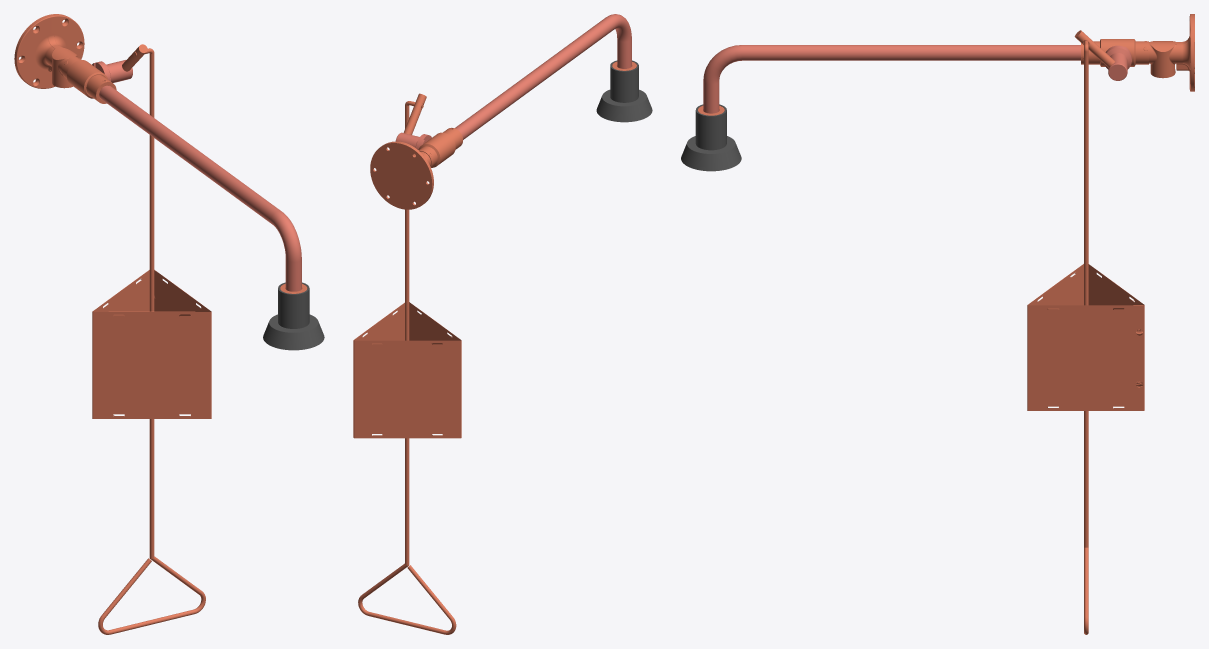
The picture shows the model from 3 angles, left to right: view 1: azimuth 30°, elevation 25°; view 2: azimuth 150°, elevation 25°; view 3: azimuth 270°, elevation 25°; orthographic projection. The views are drawn at different scales.
Parts seen in each view (by area): view 1: Body23, Body28, Body37, Body1, Body26, Body35, Body33; view 2: Body23, Body28, Body37, Body1, Body26, Body35; view 3: Body23, Body28, Body26, Body1, Body37, Body35.
Part boxes in pixels (x1,y1,x2,y2): Body23: [92, 270, 211, 418]; Body28: [99, 85, 301, 291]; Body37: [14, 14, 84, 88]; Body1: [98, 48, 205, 634]; Body26: [263, 282, 324, 350]; Body35: [61, 56, 107, 98]; Body33: [92, 60, 132, 82]; Body23: [353, 302, 461, 438]; Body28: [455, 14, 631, 139]; Body37: [370, 141, 433, 209]; Body1: [358, 101, 456, 634]; Body26: [596, 60, 652, 122]; Body35: [418, 132, 455, 167]; Body23: [1027, 264, 1144, 410]; Body28: [703, 45, 1080, 113]; Body26: [681, 104, 741, 171]; Body1: [1084, 40, 1088, 634]; Body37: [1149, 14, 1194, 91]; Body35: [1100, 39, 1148, 66].
Bounding box in the file's own units: 0.1995 × 0.8184 × 0.6612.
